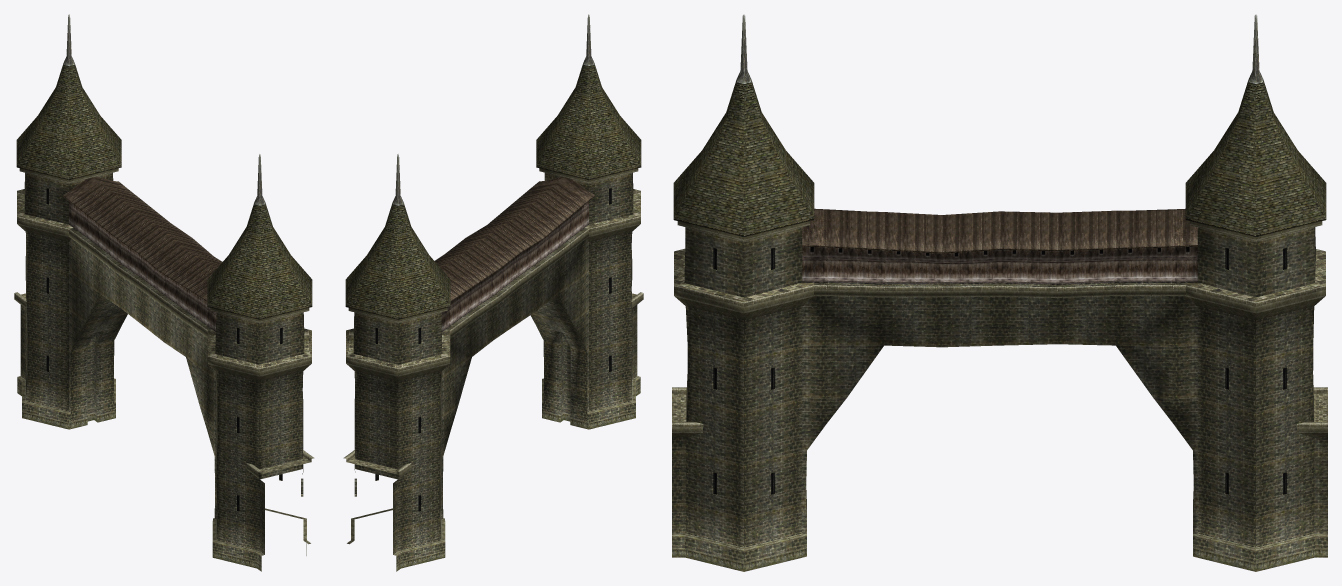
The model's file is OZ_30_kn_gate01A.glb.
3 renders of one model, left to right at view 1: azimuth 30°, elevation 25°; view 2: azimuth 150°, elevation 25°; view 3: azimuth 270°, elevation 25°, orthographic. The views are drawn at different scales.
Parts seen in each view (by area): view 1: OM_30_kn_gate01A; view 2: OM_30_kn_gate01A; view 3: OM_30_kn_gate01A.
Part boxes in pixels (box(x1,y1,x2,y2)): OM_30_kn_gate01A: box(14, 14, 314, 571); OM_30_kn_gate01A: box(343, 14, 643, 571); OM_30_kn_gate01A: box(672, 14, 1327, 571).
Bounding box in the file's own units: 16.86 × 60.3 × 68.
5 materials, 5 textured.
